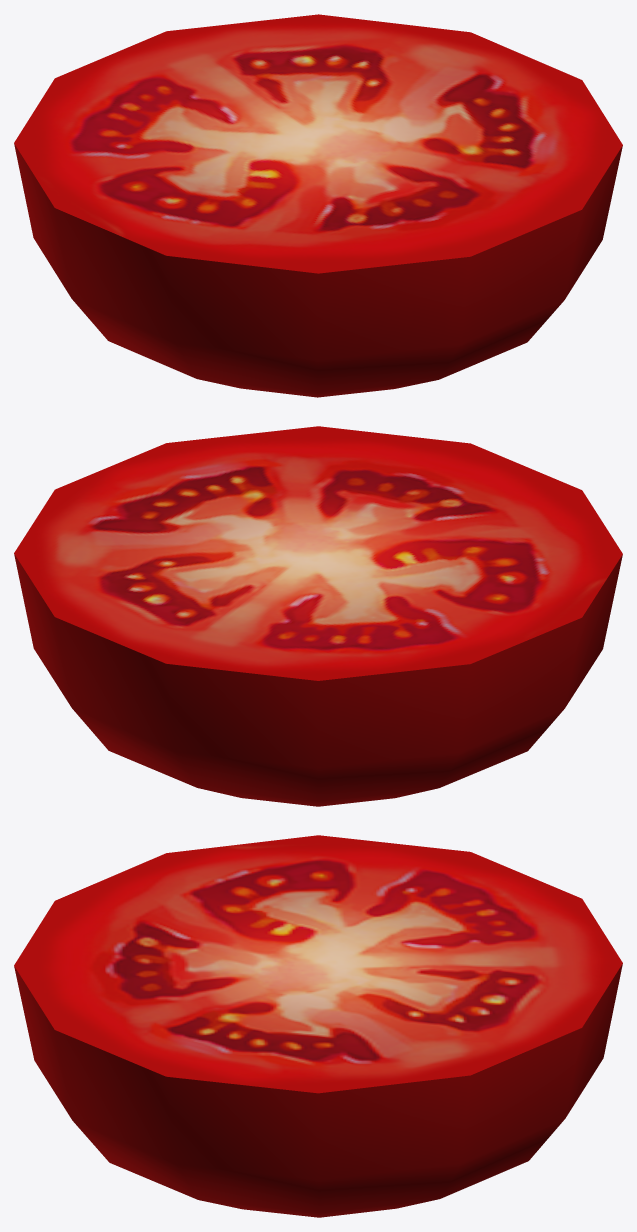
File: Tomato_Cherry.fbx
The picture shows the model from 3 angles, top to bottom: view 1: azimuth 30°, elevation 25°; view 2: azimuth 150°, elevation 25°; view 3: azimuth 270°, elevation 25°; orthographic projection.
Visible parts, largest first — view 1: Tomato_Cherry; view 2: Tomato_Cherry; view 3: Tomato_Cherry.
Part boxes in pixels (box(x1,y1,x2,y2)): Tomato_Cherry: box(14, 14, 622, 397); Tomato_Cherry: box(14, 426, 622, 806); Tomato_Cherry: box(14, 835, 622, 1217).
Size of the model in its own units: 14.57 by 5.58 by 14.57.
